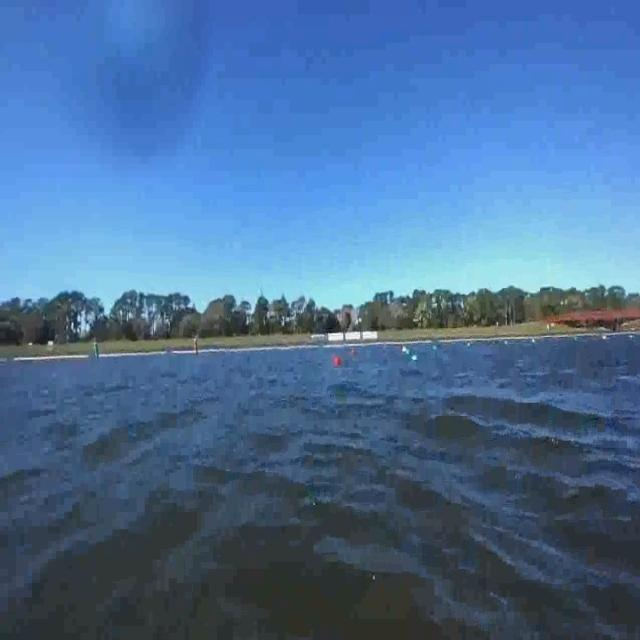red-buoy: (333, 354, 342, 368)
